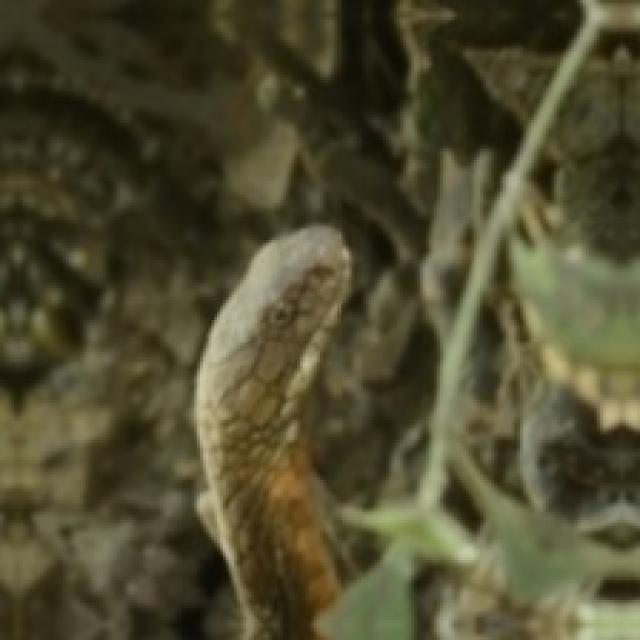king cobra: (194, 226, 637, 637), (194, 226, 349, 637)
